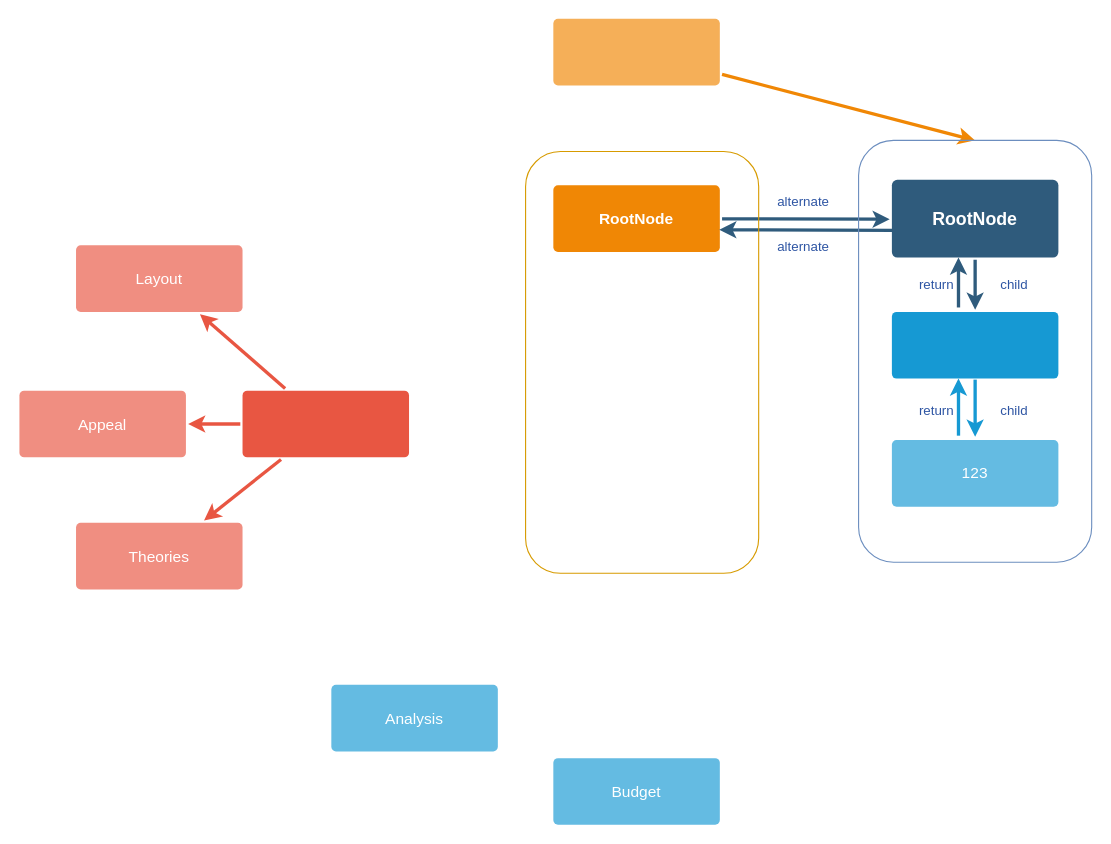
The diagram is 1111 pixels wide and 844 high, and some of its shapes have lost their labels. The shapes that lost their labels are listed below. From the top down, each one's box as (x1, y1, x2, y2) in pixels, then its label:
(553, 18, 719, 85): FiberRootNode
(891, 311, 1058, 378): div
(242, 390, 408, 457): Embassy
